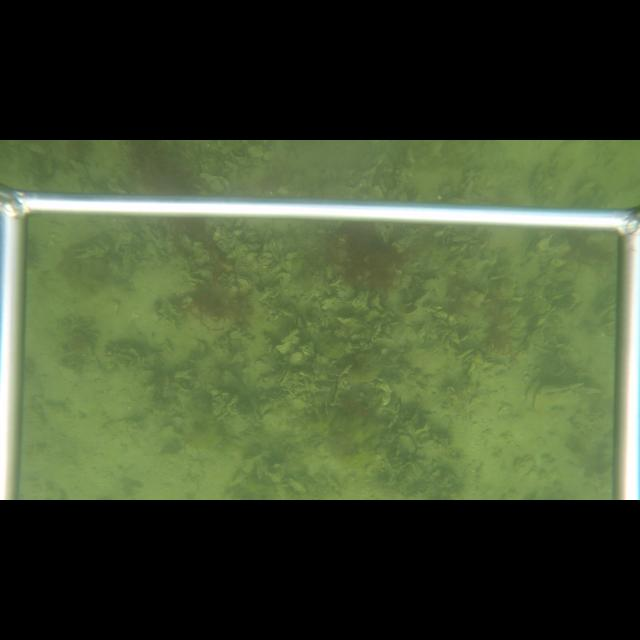Oyster-Closed: (327, 273, 342, 286), (249, 397, 259, 411), (326, 264, 334, 279)
Oyster-Open: (277, 369, 291, 385), (237, 276, 253, 286), (294, 315, 304, 327)
